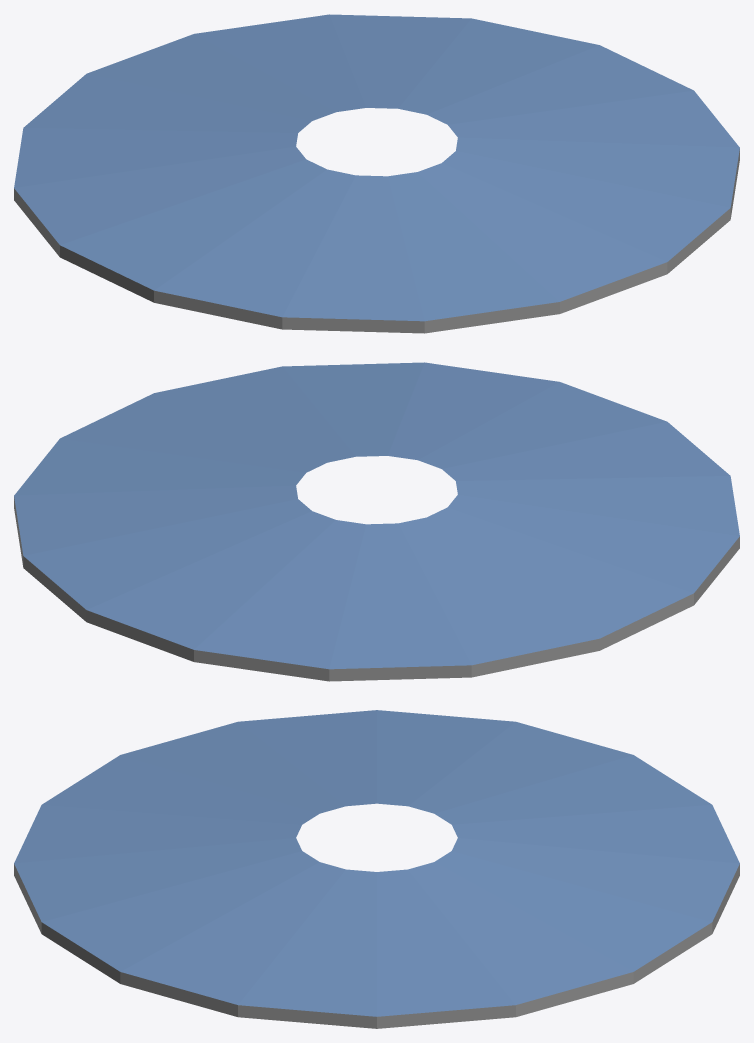
Rendered from Sillas-BaseMetalica-obj.obj.
3 renders of one model, top to bottom at view 1: azimuth 30°, elevation 25°; view 2: azimuth 150°, elevation 25°; view 3: azimuth 270°, elevation 25°, orthographic.
Parts seen in each view (by area): view 1: Cylinder.004_Cylinder.022; view 2: Cylinder.004_Cylinder.022; view 3: Cylinder.004_Cylinder.022.
Boxes of the visible parts, x1,y1,x2,y2 form: Cylinder.004_Cylinder.022: (14, 14, 739, 333); Cylinder.004_Cylinder.022: (14, 362, 739, 681); Cylinder.004_Cylinder.022: (14, 710, 739, 1028).
Bounding box in the file's own units: 7.36 × 0.4213 × 7.36.
